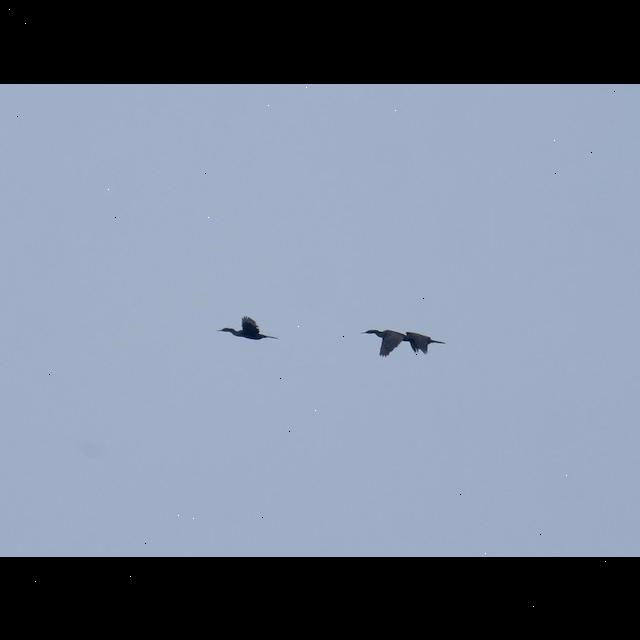cormorant: (217, 315, 286, 347)
